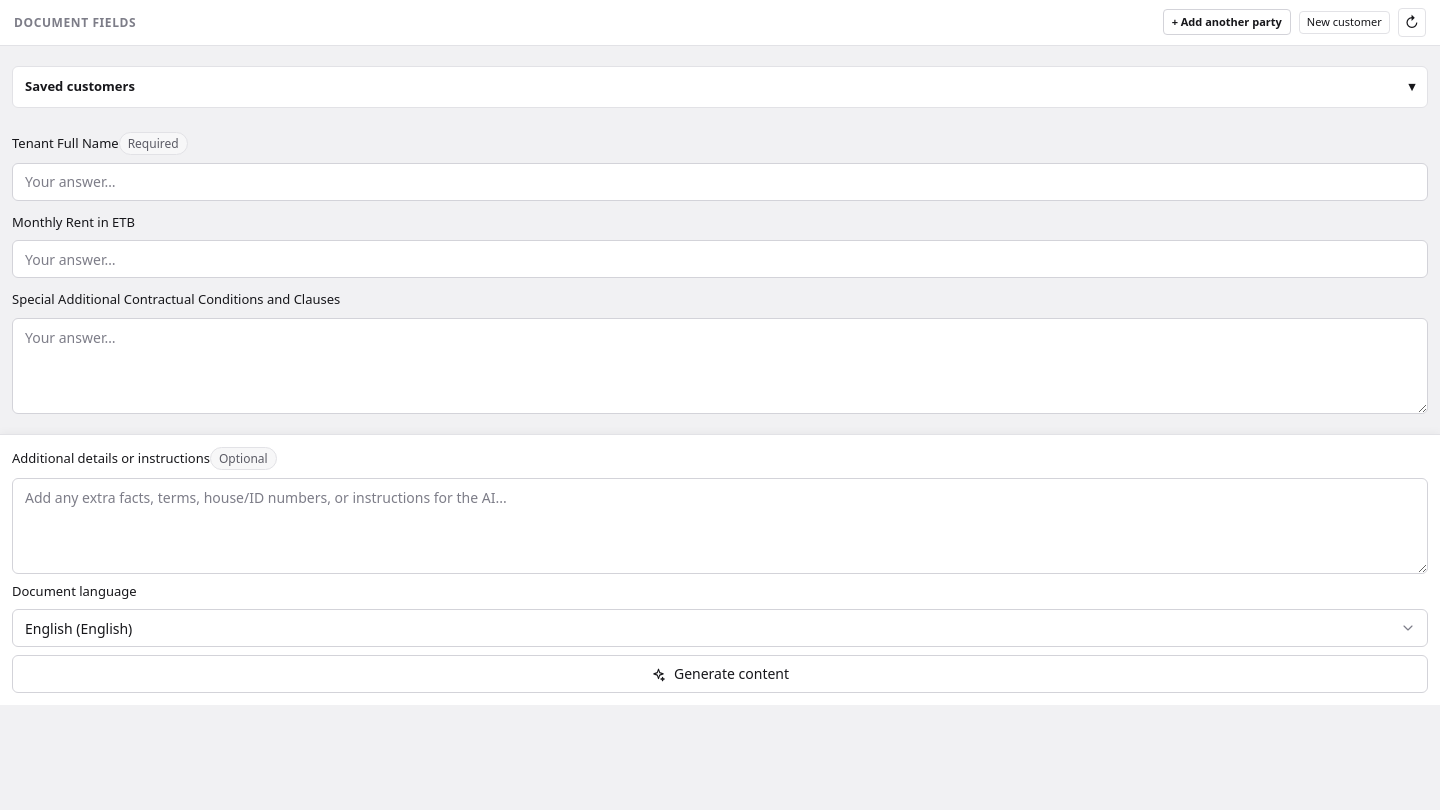
it: Fill a field from a file (paperclip) › says honestly that demo mode cannot read files
Focus the field labelled "Tenant Full Name Required": (720, 182) left=12, top=163, right=1428, bottom=201
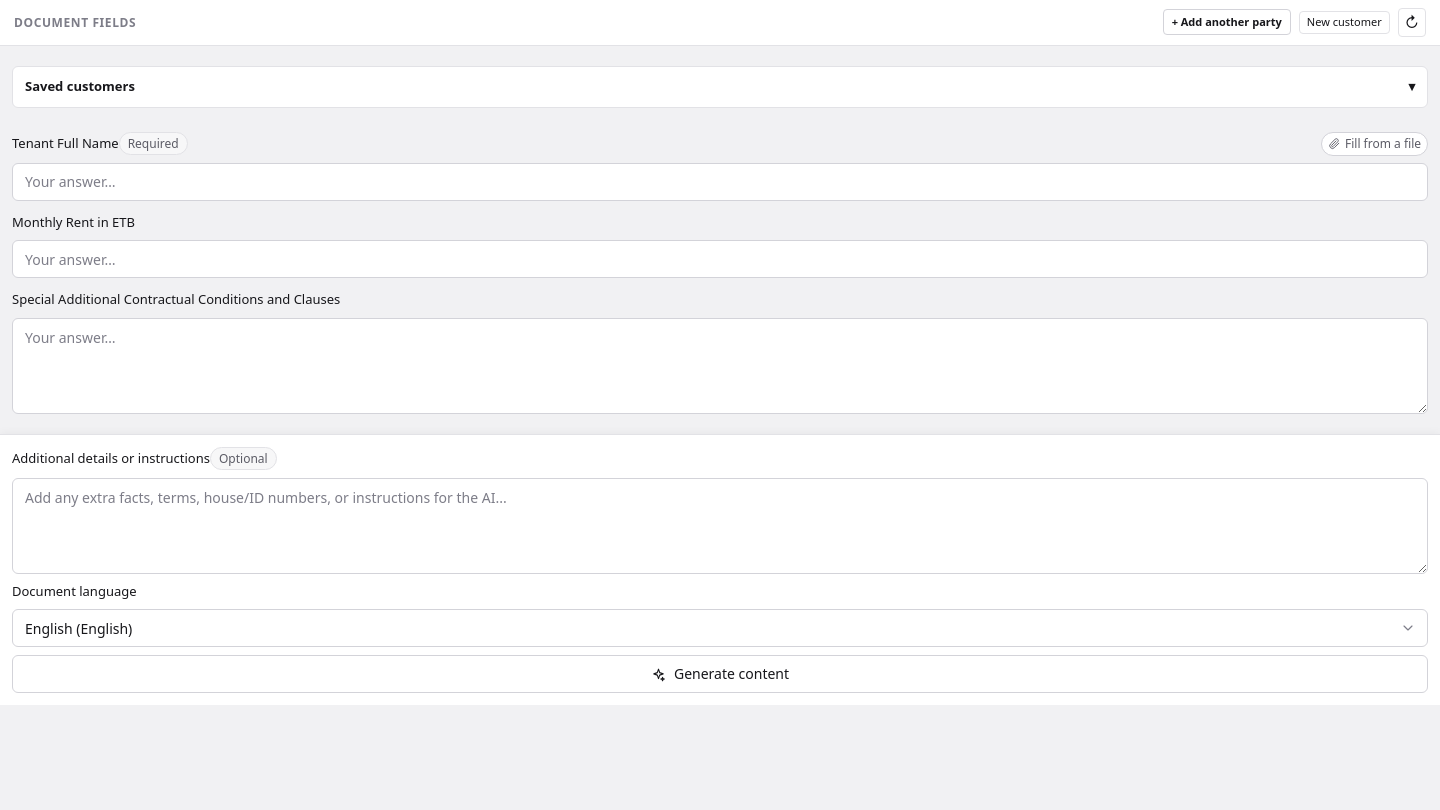
Click the button with test id "field-fill-trigger-tenant_name": click(1374, 144) left=1321, top=132, right=1428, bottom=156
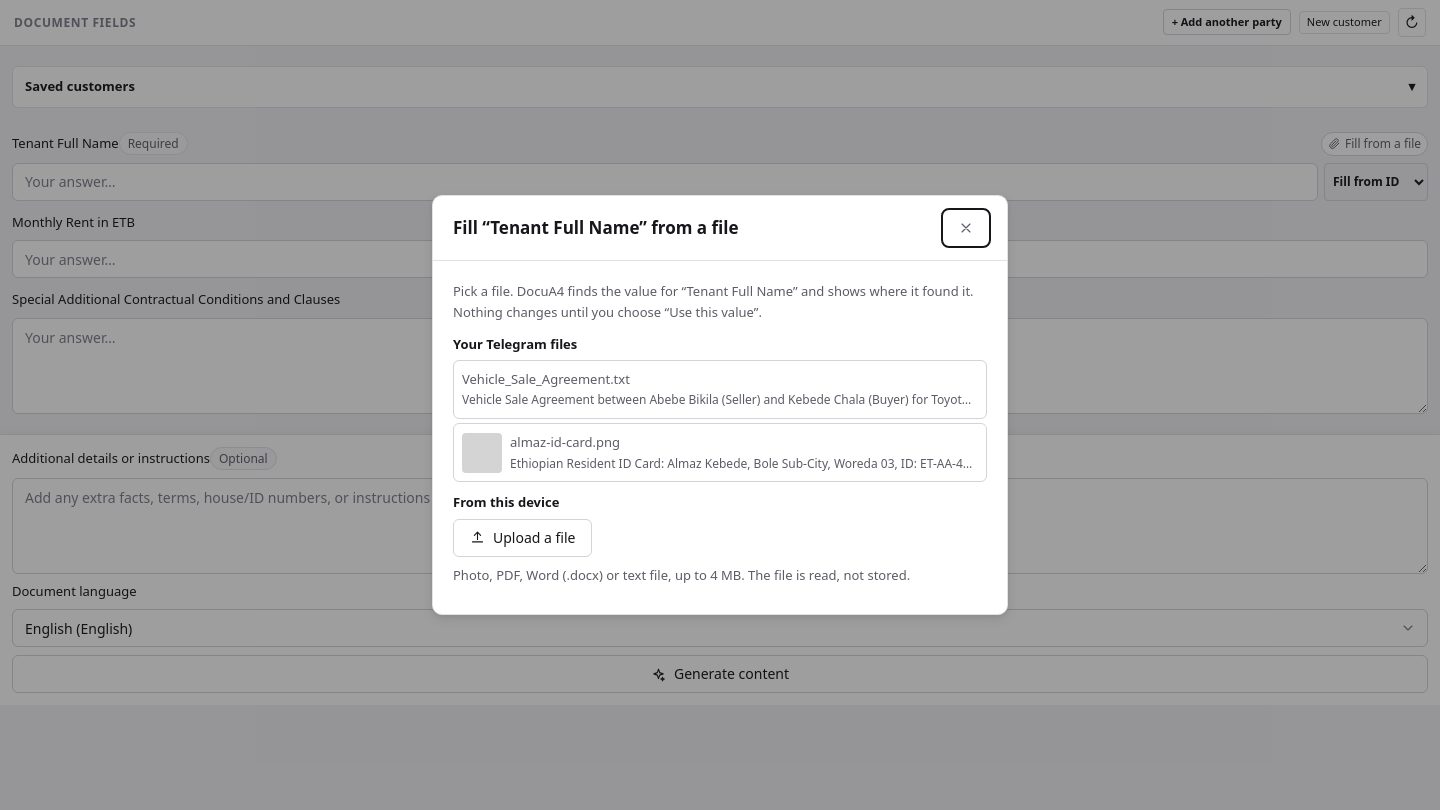
Click the button that starts with "Vehicle_Sale_Agreement.txt": click(720, 390) left=453, top=360, right=987, bottom=419
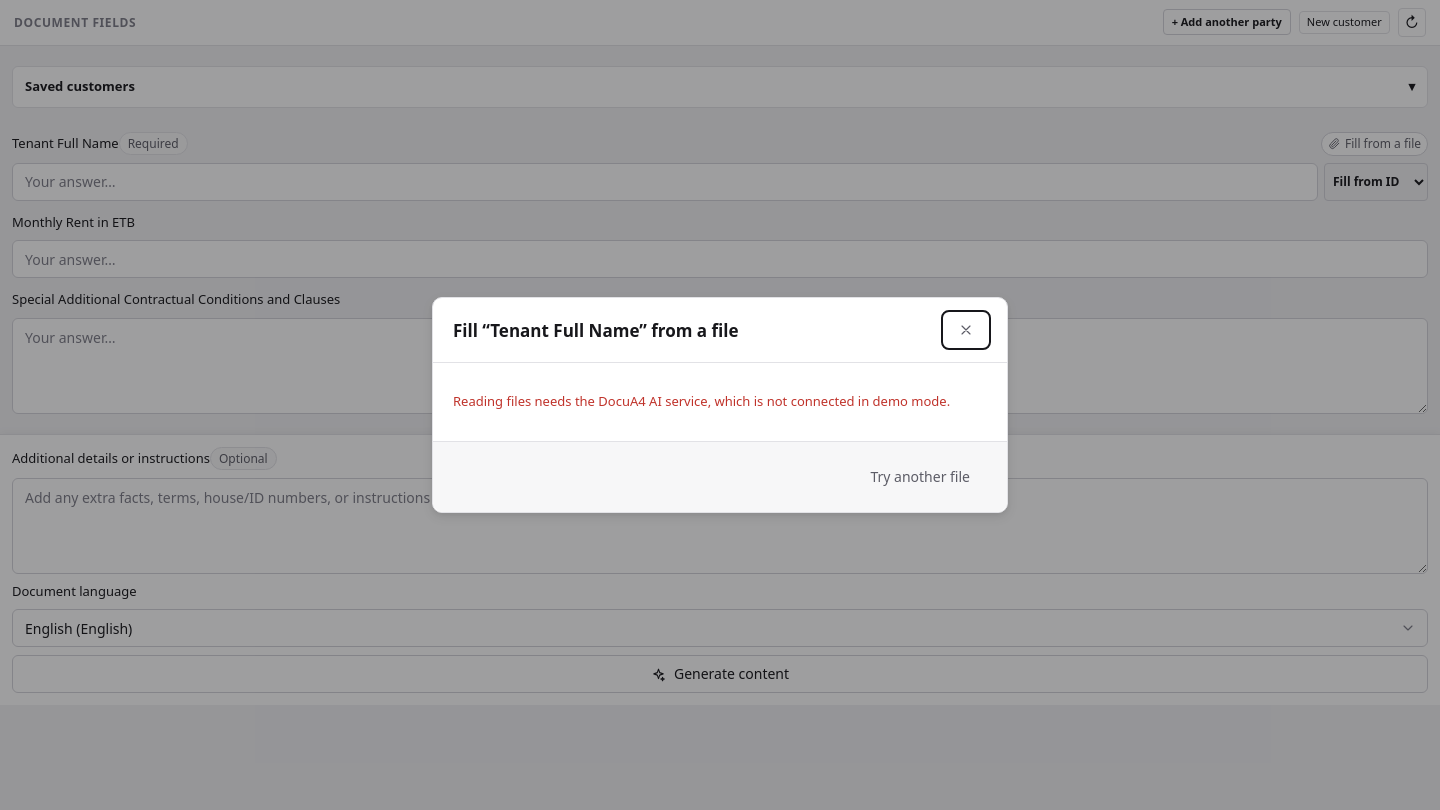
Expected: the message shows "not connected in demo mode", left=453, top=392, right=950, bottom=410
